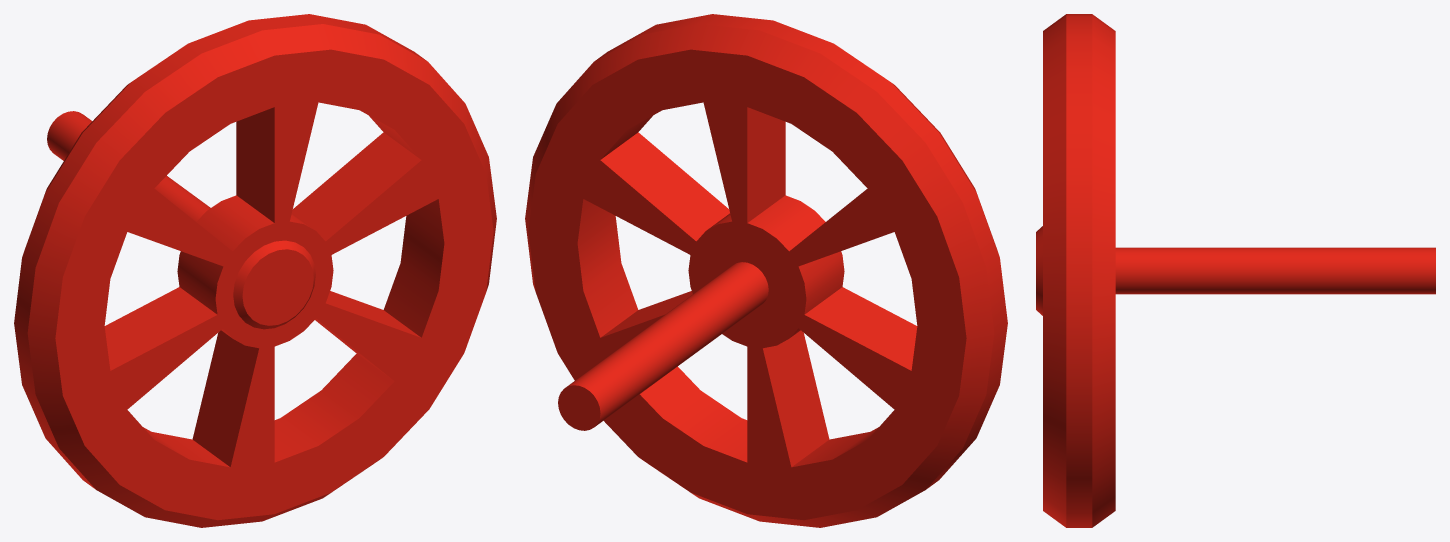
The model's file is valve.fbx.
The picture shows the model from 3 angles, left to right: view 1: azimuth 30°, elevation 25°; view 2: azimuth 150°, elevation 25°; view 3: azimuth 270°, elevation 25°; orthographic projection. The views are drawn at different scales.
Parts seen in each view (by area): view 1: Valve; view 2: Valve; view 3: Valve.
Part boxes in pixels (bbox=[...]): Valve: bbox=[14, 14, 496, 527]; Valve: bbox=[525, 14, 1007, 527]; Valve: bbox=[1036, 14, 1435, 527].
Size of the model in its own units: 25.72 by 19.93 by 25.72.
